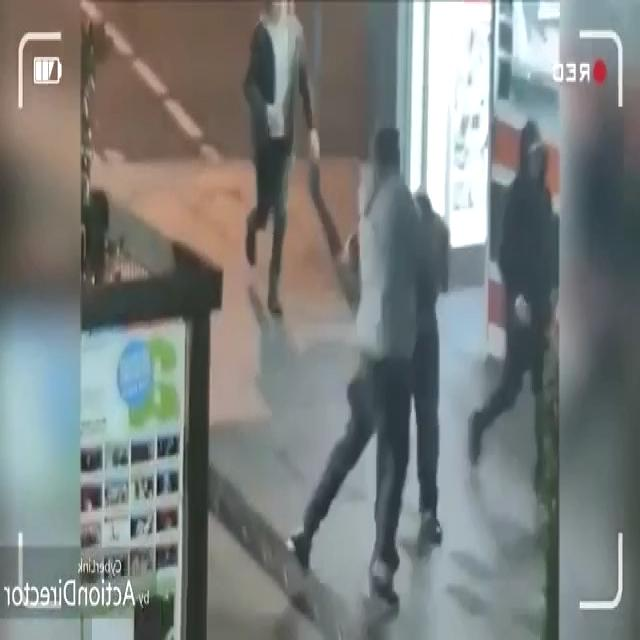fight: (283, 113, 463, 630)
